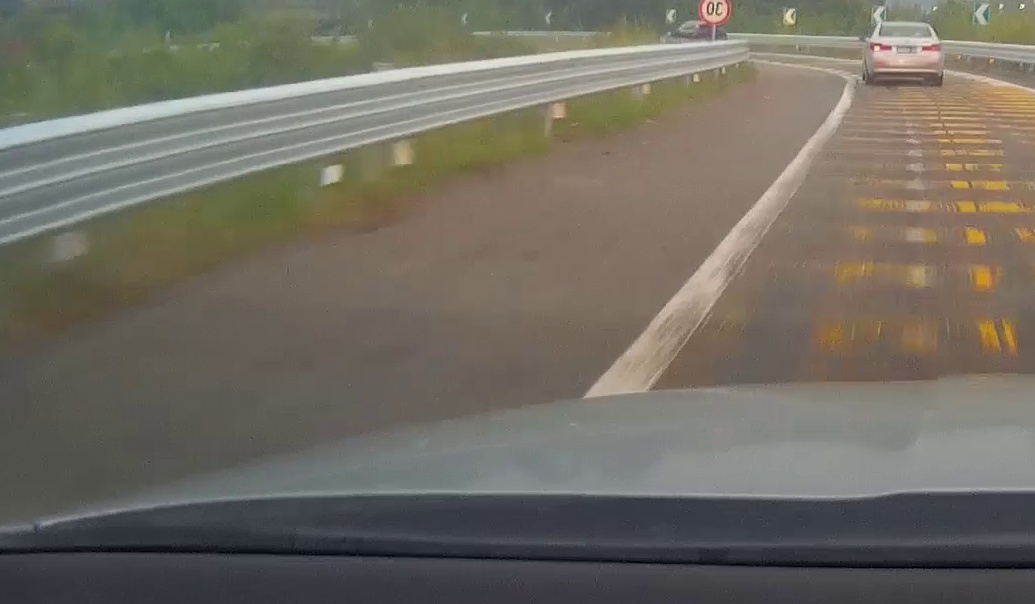L_light: (870, 43, 892, 50)
R_light: (922, 44, 941, 51)
T_light: (899, 26, 909, 29)
day-left: (868, 21, 944, 86)
